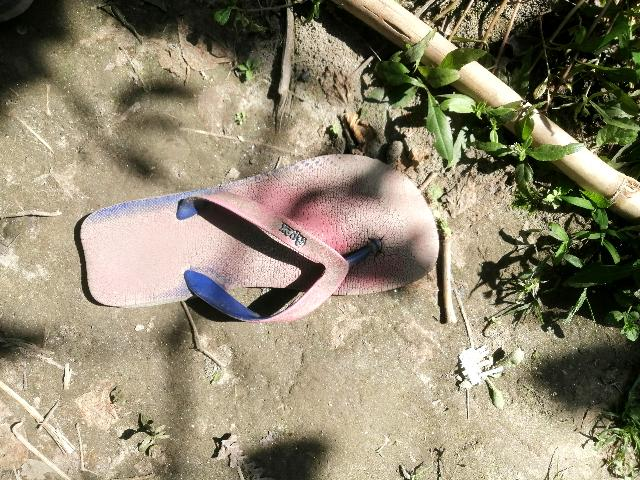sandal: (58, 130, 447, 329)
